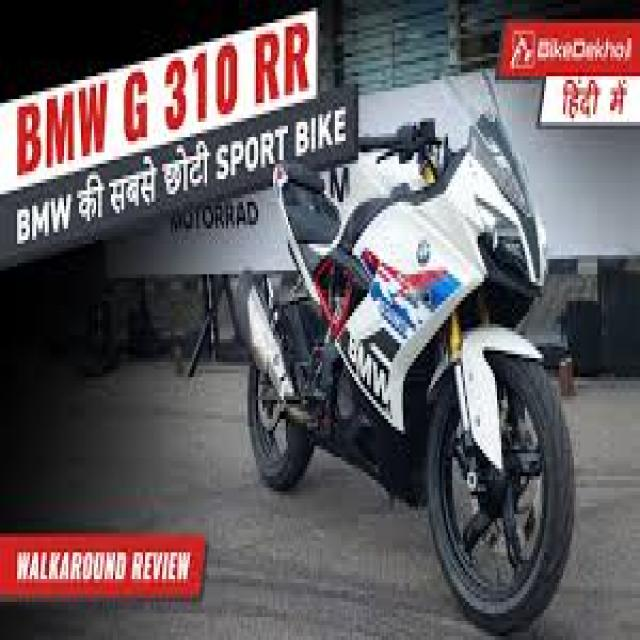Bike: (234, 66, 576, 637)
